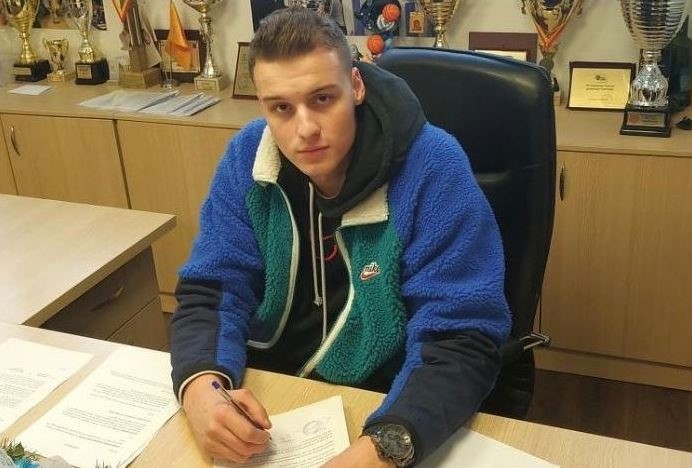face_no_mask: (253, 11, 360, 183)
